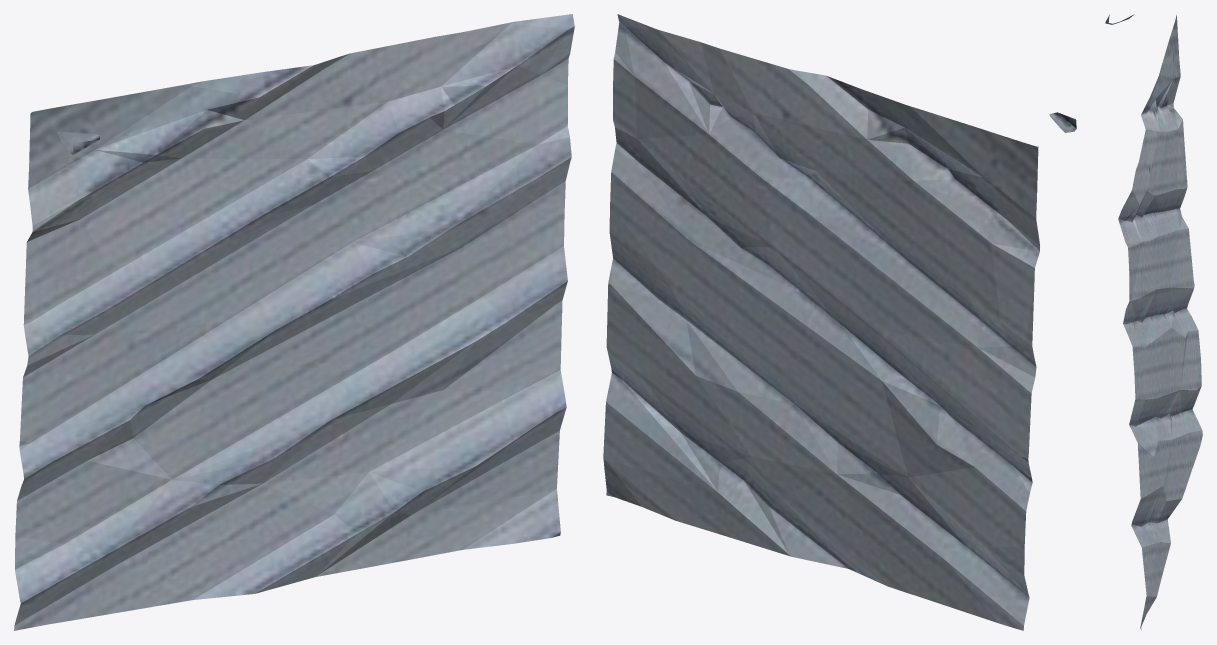
The model's file is Tile_+004_+007_L23_001023.obj.
The picture shows the model from 3 angles, left to right: view 1: azimuth 30°, elevation 25°; view 2: azimuth 150°, elevation 25°; view 3: azimuth 270°, elevation 25°; orthographic projection. The views are drawn at different scales.
Bounding box in the file's own units: 1.91 × 1.91 × 0.4022.
Materials: 1 (1 with a texture image).
